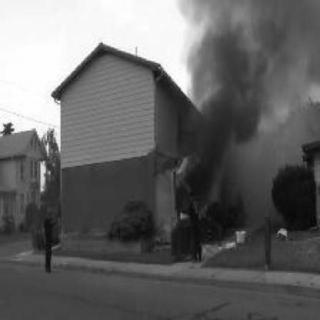Fire: (174, 158, 211, 220)
Smoke: (181, 1, 307, 161)
